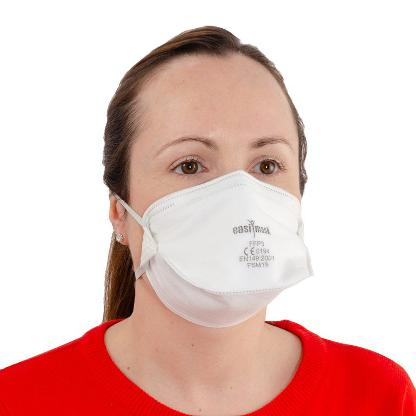FFP Mask: (106, 64, 306, 330)
